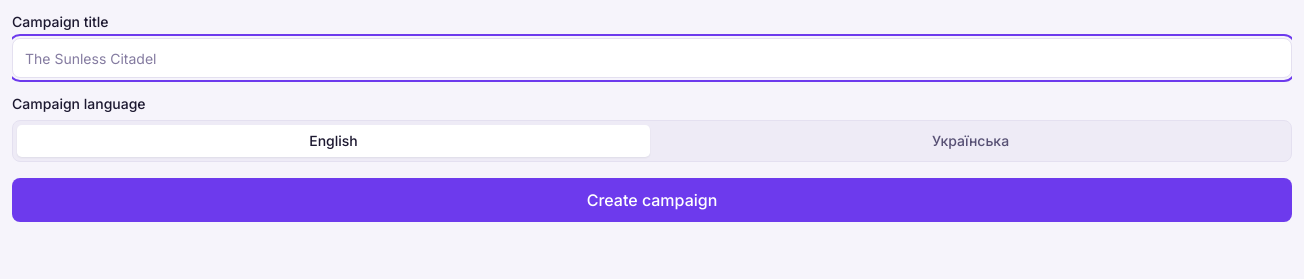
CreateLobbyForm › shows a validation error for a too-short title
Type "ab" into the field labelled "Campaign title" at point(652, 58), box [12,38,1292,78]
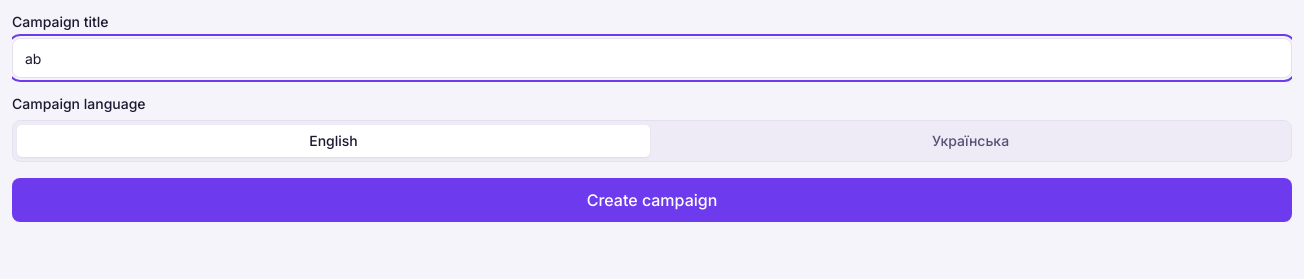
Click the button "Create campaign" at point(652, 200), box [12,178,1292,222]
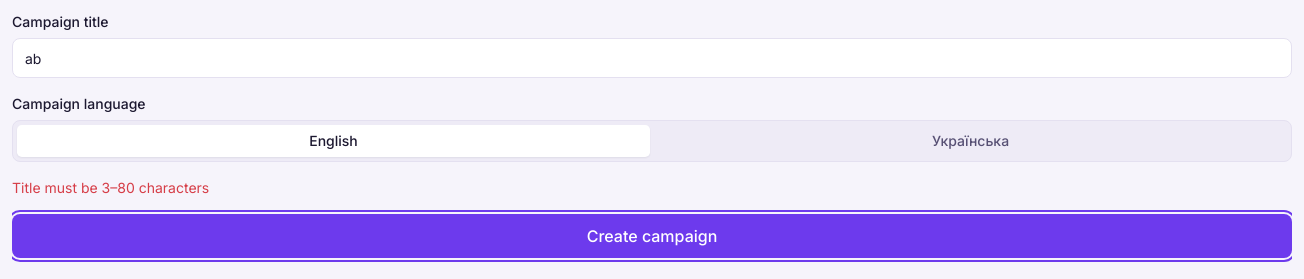
Check: the message "Title must be 3–80 characters" is shown, box [12,179,209,196]
